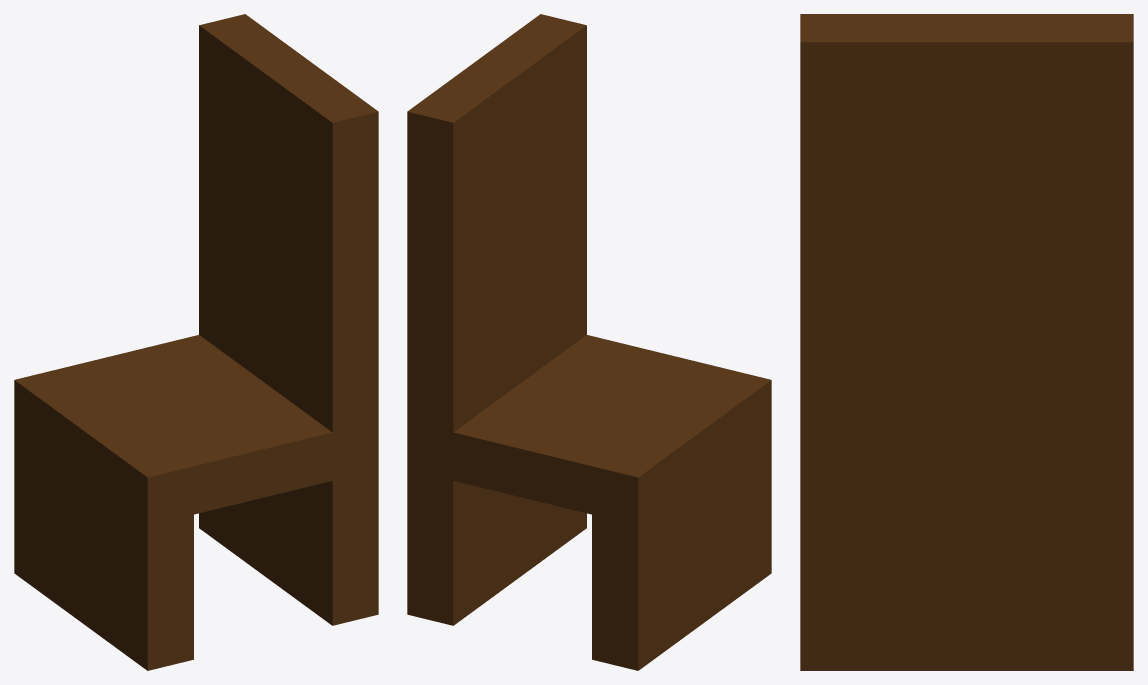
The model's file is Chair.fbx.
The picture shows the model from 3 angles, left to right: view 1: azimuth 30°, elevation 25°; view 2: azimuth 150°, elevation 25°; view 3: azimuth 270°, elevation 25°; orthographic projection. The views are drawn at different scales.
Parts seen in each view (by area): view 1: Chair; view 2: Chair; view 3: Chair.
Boxes of the visible parts, x1=… form: Chair: x1=14, y1=14, x2=378, y2=670; Chair: x1=407, y1=14, x2=771, y2=670; Chair: x1=800, y1=14, x2=1133, y2=670.
Bounding box in the file's own units: 78.12 × 78.12 × 162.
